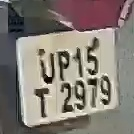1: (72, 48, 86, 77)
2: (59, 82, 76, 115)
5: (84, 39, 102, 76)
7: (84, 76, 100, 109)
9: (73, 79, 88, 112), (99, 75, 113, 107)
P: (57, 49, 73, 80)
T: (30, 86, 53, 120)
U: (36, 51, 56, 85)
